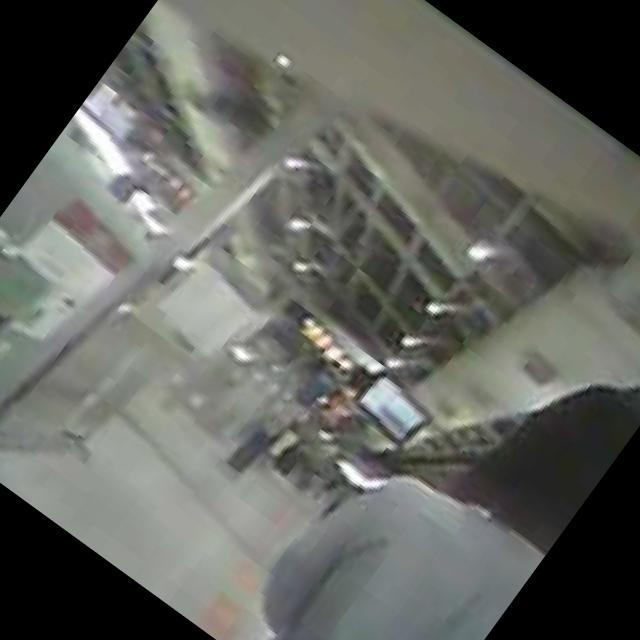person: (217, 285, 640, 640), (222, 362, 330, 488)
